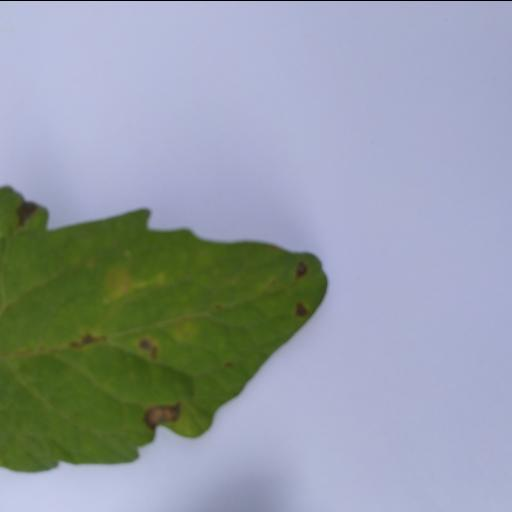disease_tomato: (0, 178, 328, 472)
